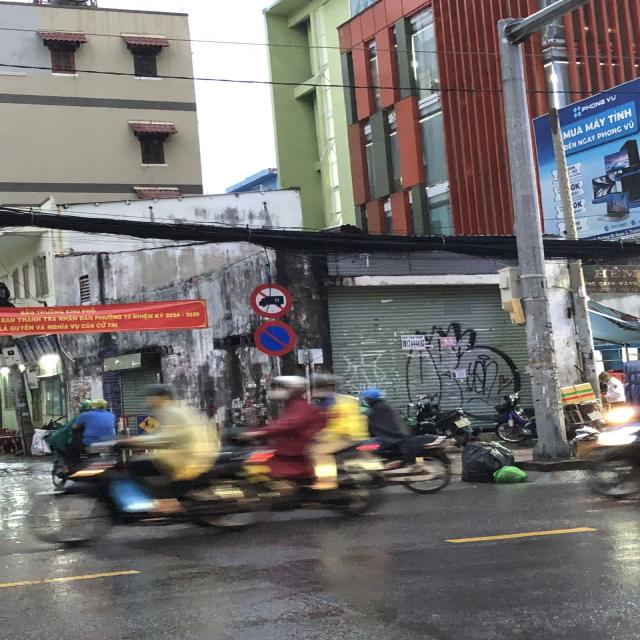Bien bao cam do xe: (251, 317, 299, 360)
Bien bao cam xe oto tai: (245, 281, 298, 319)
